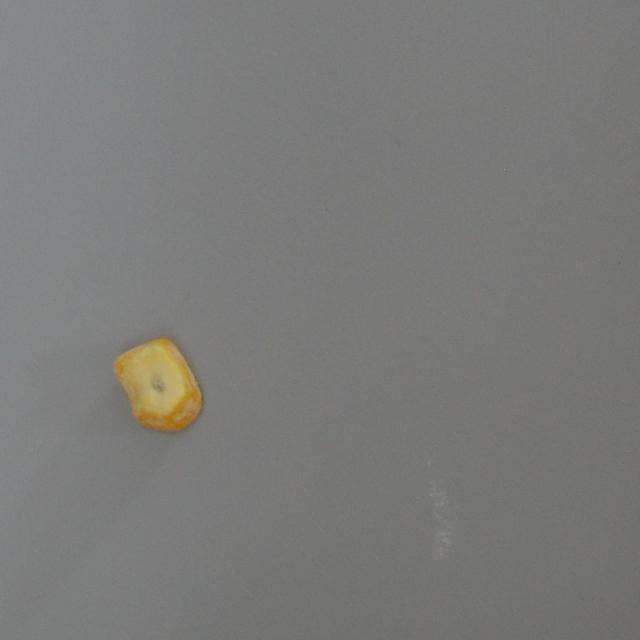punto_negro: (108, 333, 208, 441)
